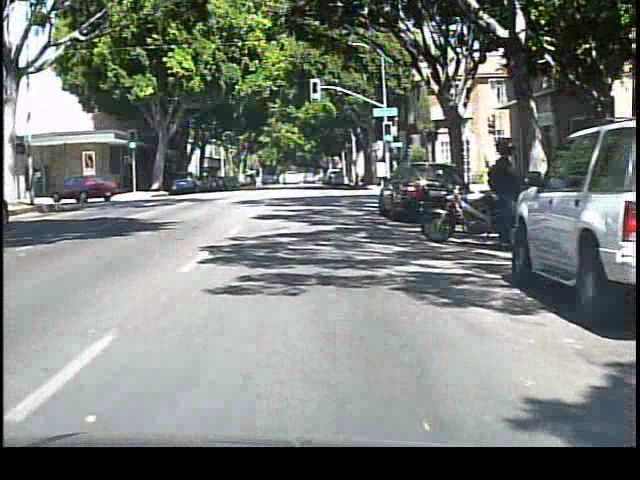person: (481, 132, 524, 249)
